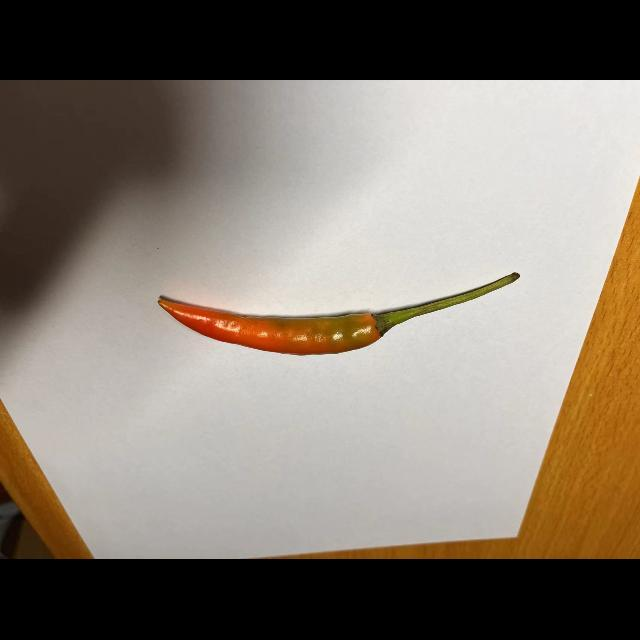chili_pepper: (153, 270, 522, 362)
